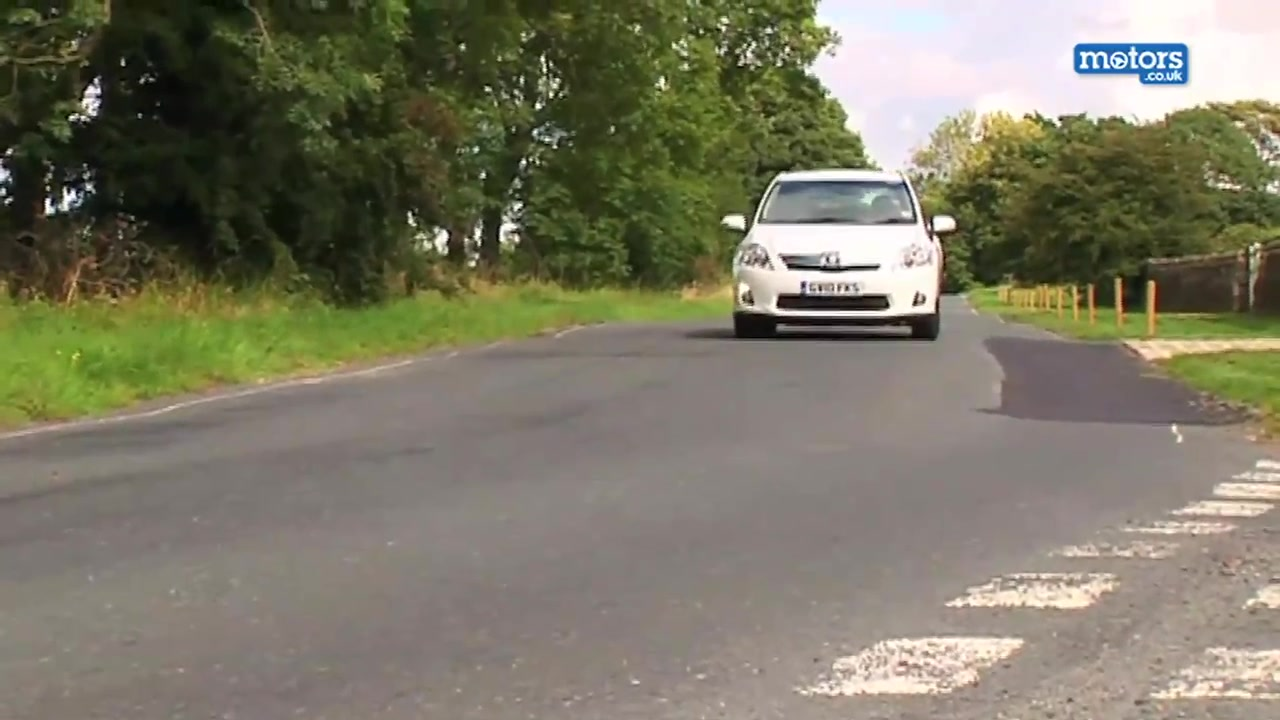car: (720, 167, 960, 344)
